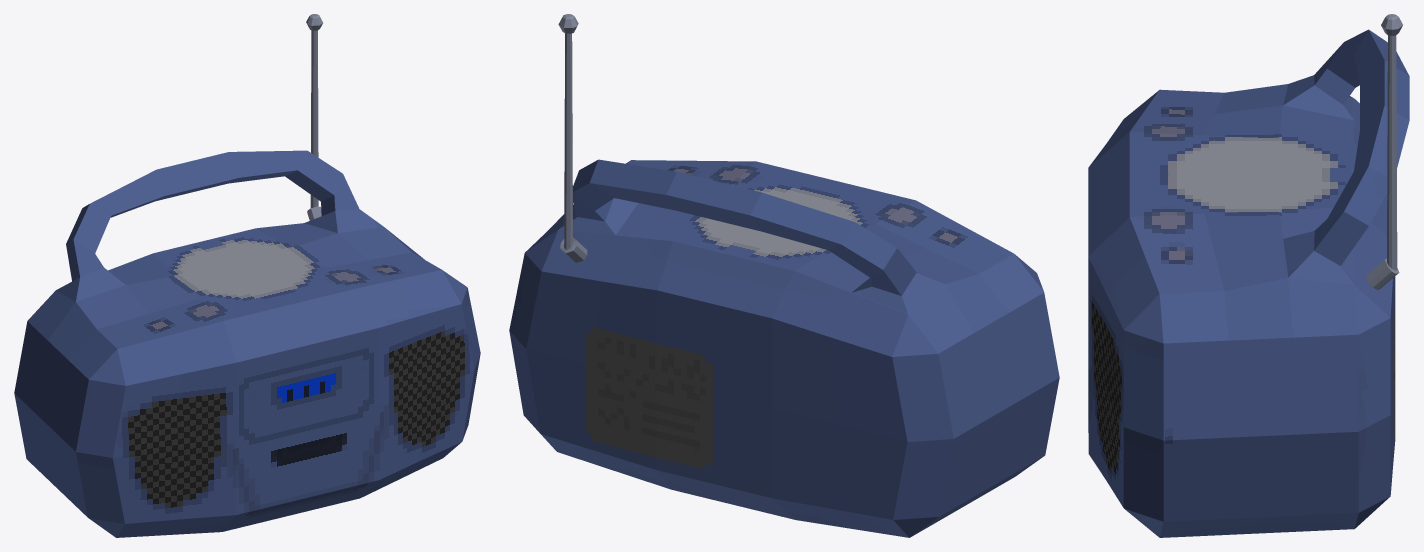
Rendered from BoomBox.glb.
3 views of the same model, side by side, from view 1: azimuth 30°, elevation 25°; view 2: azimuth 150°, elevation 25°; view 3: azimuth 270°, elevation 25° (orthographic). The views are drawn at different scales.
Parts seen in each view (by area): view 1: Cube; view 2: Cube; view 3: Cube.
Part boxes in pixels (x1,y1,x2,y2): Cube: (14,14,480,537); Cube: (509,14,1059,537); Cube: (1088,14,1409,537).
Bounding box in the file's own units: 4.49 × 4.19 × 2.39.
1 material, 1 textured.
